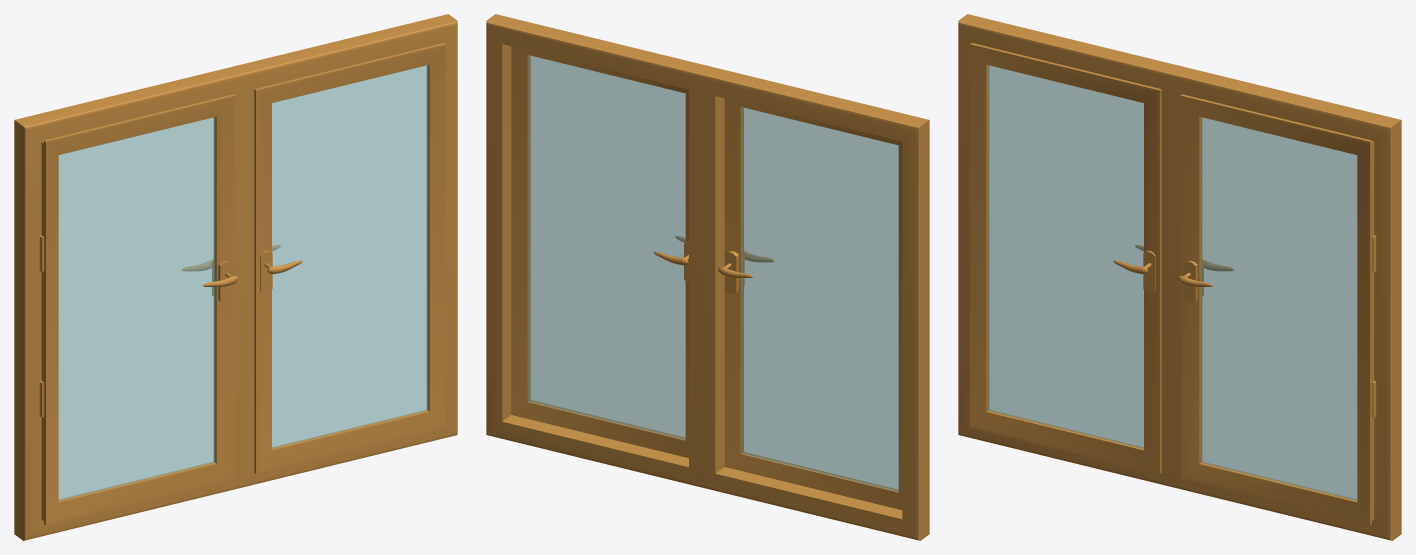
Rendered from Window_01.fbx.
3 views of the same model, side by side, from view 1: azimuth 30°, elevation 25°; view 2: azimuth 150°, elevation 25°; view 3: azimuth 330°, elevation 25° (orthographic).
Visible parts, largest first — view 1: Glass_L, Glass_R, Window_01, WindowWing_L, WindowWing_R; view 2: Window_01, Glass_L, Glass_R, WindowWing_L, WindowWing_R; view 3: Glass_R, Glass_L, Window_01, WindowWing_R, WindowWing_L.
Part boxes in pixels (<box>): Glass_L: <box>58,117,214,500</box>; Glass_R: <box>272,65,428,448</box>; Window_01: <box>14,14,457,540</box>; WindowWing_L: <box>39,94,235,525</box>; WindowWing_R: <box>254,43,445,473</box>; Window_01: <box>486,14,929,540</box>; Glass_L: <box>741,107,898,491</box>; Glass_R: <box>528,55,685,439</box>; WindowWing_L: <box>724,98,902,509</box>; WindowWing_R: <box>511,46,688,457</box>; Glass_R: <box>1200,117,1357,500</box>; Glass_L: <box>987,65,1143,448</box>; Window_01: <box>958,14,1401,540</box>; WindowWing_R: <box>1180,94,1376,525</box>; WindowWing_L: <box>970,43,1161,473</box>.
Size of the model in its own units: 150 by 137 by 14.65.
